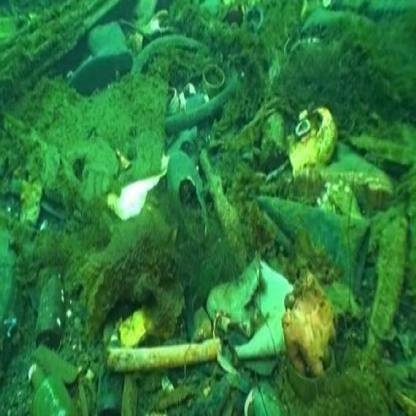rod: (101, 335, 233, 377)
